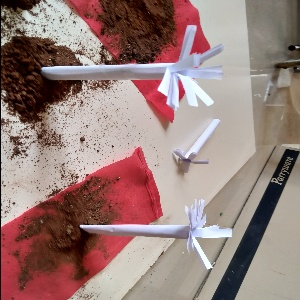weed: (36, 27, 239, 107), (73, 197, 237, 267), (175, 111, 225, 172)
